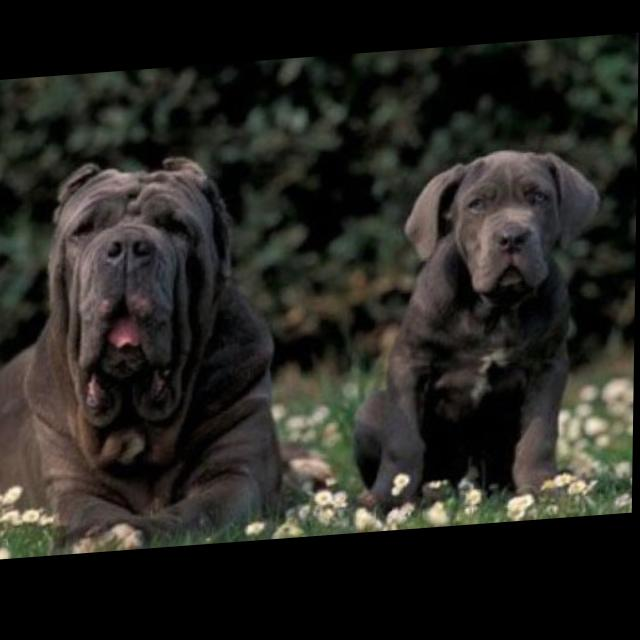mastino_napoletano: (1, 148, 340, 560), (354, 151, 604, 523)
